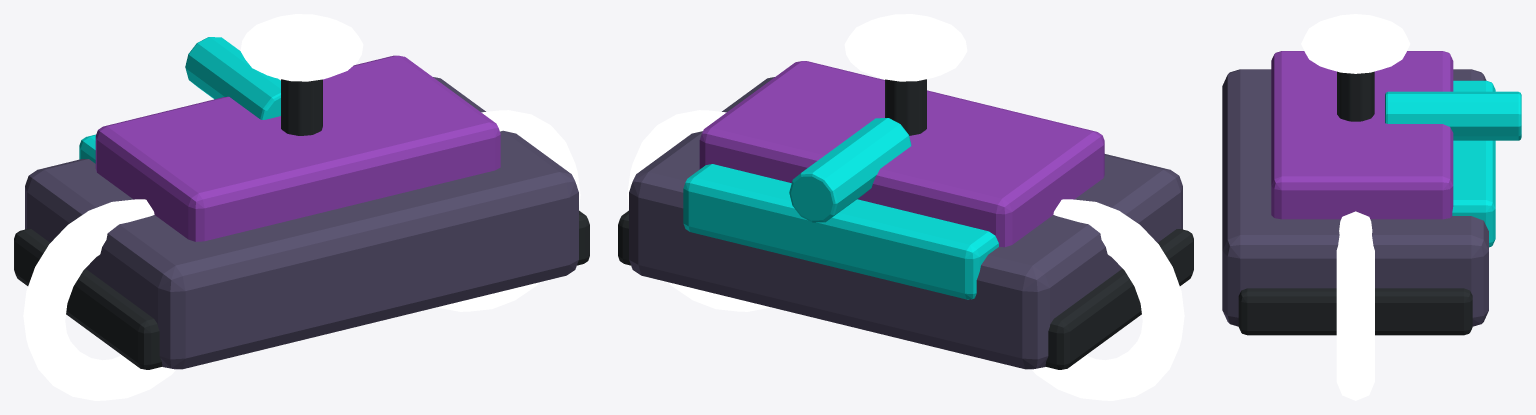
Rendered from SM_Chronolegion_CH_ParallaxScout.fbx.
3 renders of one model, left to right at view 1: azimuth 30°, elevation 25°; view 2: azimuth 150°, elevation 25°; view 3: azimuth 270°, elevation 25°, orthographic. The views are drawn at different scales.
Parts seen in each view (by area): view 1: SM_Chronolegion_CH_ParallaxScout, SM_Chronolegion_CH_ParallaxScout_UpperHull, SM_Chronolegion_CH_ParallaxScout_HoverRing_-1, SM_Chronolegion_CH_ParallaxScout_Sensor, SM_Chronolegion_CH_ParallaxScout_HoverPod_-1, SM_Chronolegion_CH_ParallaxScout_LightCannon, SM_Chronolegion_CH_ParallaxScout_HoverRing_+1, SM_Chronolegion_CH_ParallaxScout_SensorMast, SM_Chronolegion_CH_ParallaxScout_HoverPod_+1; view 2: SM_Chronolegion_CH_ParallaxScout, SM_Chronolegion_CH_ParallaxScout_UpperHull, SM_Chronolegion_CH_ParallaxScout_Glacis, SM_Chronolegion_CH_ParallaxScout_HoverRing_-1, SM_Chronolegion_CH_ParallaxScout_Sensor, SM_Chronolegion_CH_ParallaxScout_LightCannon, SM_Chronolegion_CH_ParallaxScout_HoverPod_-1, SM_Chronolegion_CH_ParallaxScout_HoverRing_+1, SM_Chronolegion_CH_ParallaxScout_SensorMast, SM_Chronolegion_CH_ParallaxScout_HoverPod_+1; view 3: SM_Chronolegion_CH_ParallaxScout, SM_Chronolegion_CH_ParallaxScout_UpperHull, SM_Chronolegion_CH_ParallaxScout_HoverPod_+1, SM_Chronolegion_CH_ParallaxScout_HoverRing_+1, SM_Chronolegion_CH_ParallaxScout_LightCannon, SM_Chronolegion_CH_ParallaxScout_Sensor, SM_Chronolegion_CH_ParallaxScout_Glacis, SM_Chronolegion_CH_ParallaxScout_SensorMast.
Boxes of the visible parts, left/top/right/bottom form: SM_Chronolegion_CH_ParallaxScout: left=25, top=77, right=578, bottom=369; SM_Chronolegion_CH_ParallaxScout_UpperHull: left=95, top=55, right=500, bottom=241; SM_Chronolegion_CH_ParallaxScout_HoverRing_-1: left=23, top=199, right=176, bottom=400; SM_Chronolegion_CH_ParallaxScout_Sensor: left=240, top=14, right=363, bottom=81; SM_Chronolegion_CH_ParallaxScout_HoverPod_-1: left=14, top=229, right=162, bottom=369; SM_Chronolegion_CH_ParallaxScout_LightCannon: left=185, top=37, right=280, bottom=119; SM_Chronolegion_CH_ParallaxScout_HoverRing_+1: left=437, top=110, right=580, bottom=311; SM_Chronolegion_CH_ParallaxScout_SensorMast: left=281, top=79, right=322, bottom=135; SM_Chronolegion_CH_ParallaxScout_HoverPod_+1: left=577, top=210, right=589, bottom=265; SM_Chronolegion_CH_ParallaxScout: left=629, top=77, right=1182, bottom=369; SM_Chronolegion_CH_ParallaxScout_UpperHull: left=699, top=61, right=1104, bottom=247; SM_Chronolegion_CH_ParallaxScout_Glacis: left=683, top=164, right=998, bottom=299; SM_Chronolegion_CH_ParallaxScout_HoverRing_-1: left=1031, top=199, right=1184, bottom=400; SM_Chronolegion_CH_ParallaxScout_Sensor: left=844, top=14, right=967, bottom=81; SM_Chronolegion_CH_ParallaxScout_LightCannon: left=789, top=118, right=911, bottom=222; SM_Chronolegion_CH_ParallaxScout_HoverPod_-1: left=1045, top=229, right=1193, bottom=369; SM_Chronolegion_CH_ParallaxScout_HoverRing_+1: left=627, top=110, right=770, bottom=311; SM_Chronolegion_CH_ParallaxScout_SensorMast: left=885, top=79, right=926, bottom=135; SM_Chronolegion_CH_ParallaxScout_HoverPod_+1: left=618, top=210, right=630, bottom=265; SM_Chronolegion_CH_ParallaxScout: left=1222, top=69, right=1488, bottom=326; SM_Chronolegion_CH_ParallaxScout_UpperHull: left=1271, top=51, right=1453, bottom=219; SM_Chronolegion_CH_ParallaxScout_HoverPod_+1: left=1238, top=288, right=1472, bottom=335; SM_Chronolegion_CH_ParallaxScout_HoverRing_+1: left=1336, top=211, right=1374, bottom=400; SM_Chronolegion_CH_ParallaxScout_LightCannon: left=1385, top=91, right=1521, bottom=140; SM_Chronolegion_CH_ParallaxScout_Sensor: left=1301, top=14, right=1410, bottom=73; SM_Chronolegion_CH_ParallaxScout_Glacis: left=1452, top=80, right=1495, bottom=247; SM_Chronolegion_CH_ParallaxScout_SensorMast: left=1337, top=71, right=1374, bottom=121.
Size of what is drawn, in the model's own units: 381 by 202 by 216.
